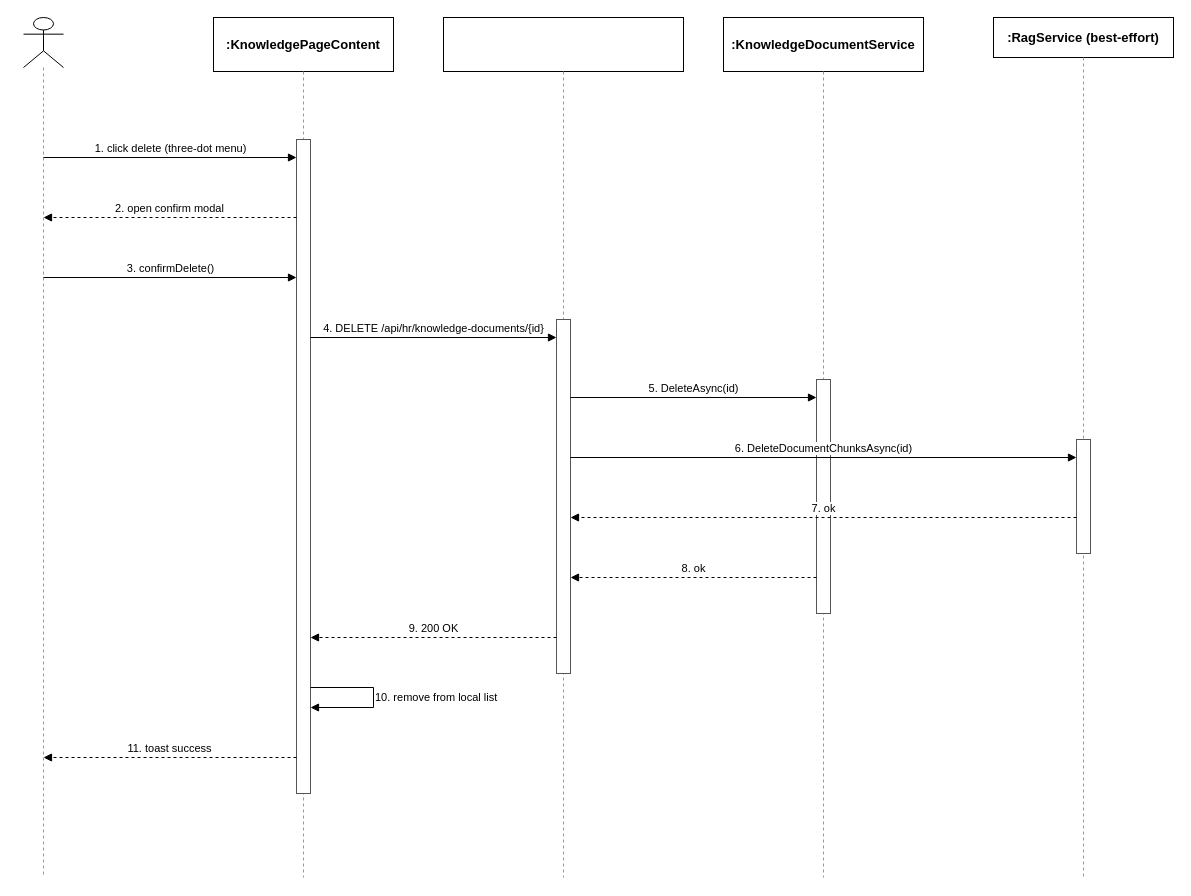
Some shapes in this 1191 by 896 pixel diagram are drawn without their labels. The centre of each missing label's shape, as x and y in pixels:
:HrKnowledgeDocumentsController: pixel 563 44
HR Manager: pixel 43 42
